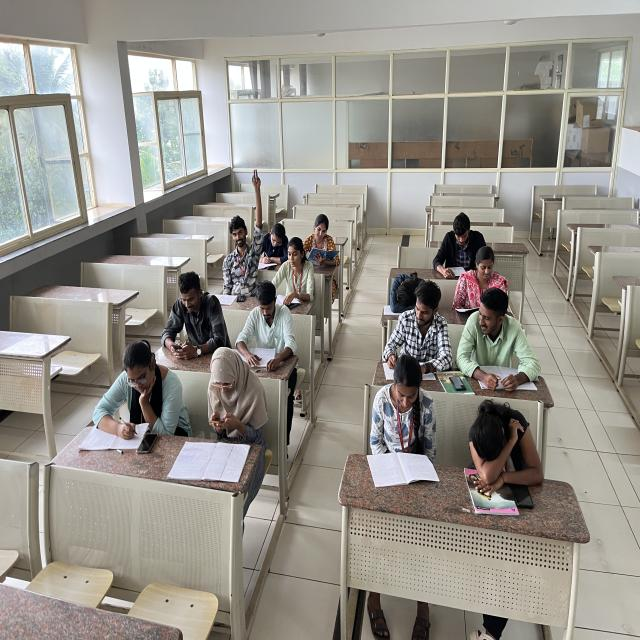Hand Rising: (218, 165, 269, 288)
Reading: (359, 356, 438, 476), (234, 282, 298, 370), (453, 247, 516, 316), (428, 210, 490, 278), (306, 215, 346, 269)
Sleeping: (460, 396, 546, 491), (380, 266, 430, 314)
Using Phone: (198, 338, 274, 436), (152, 267, 229, 361)
Writing: (92, 339, 191, 446), (258, 222, 290, 268)
